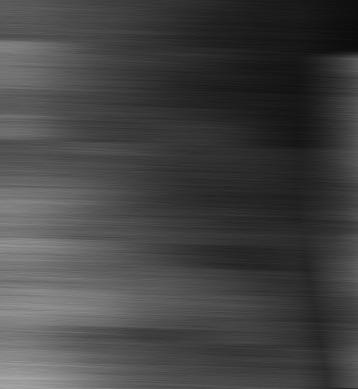Airbag: (0, 0, 358, 389), (347, 26, 358, 389)
